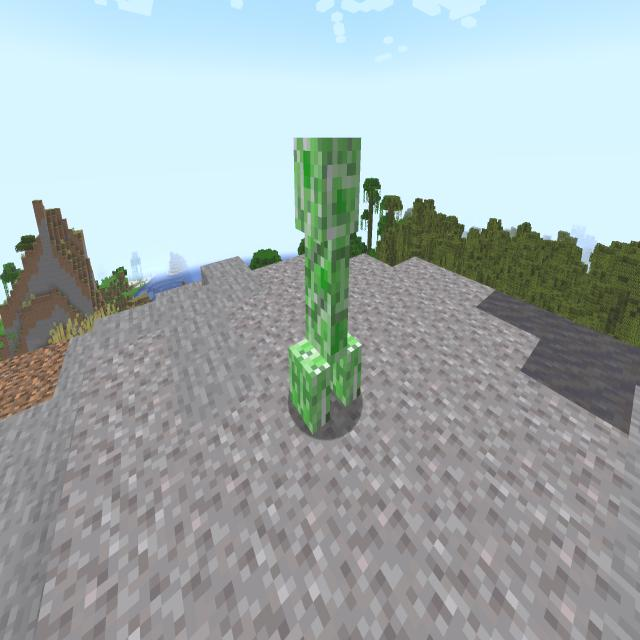Creeper: (281, 116, 371, 448)
